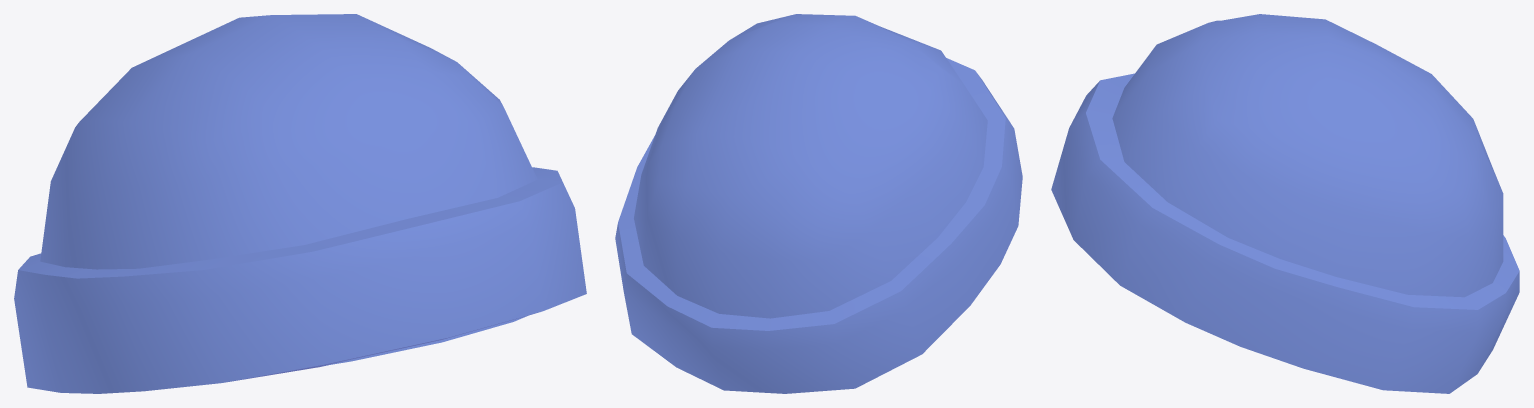
Rendered from beanie.glb.
3 views of the same model, side by side, from view 1: azimuth 30°, elevation 25°; view 2: azimuth 150°, elevation 25°; view 3: azimuth 270°, elevation 25° (orthographic). The views are drawn at different scales.
Parts seen in each view (by area): view 1: normal.002, small.004; view 2: normal.002; view 3: normal.002.
Part boxes in pixels (left/top/right/bottom): normal.002: left=14, top=14, right=586, bottom=393; small.004: left=320, top=316, right=526, bottom=366; normal.002: left=615, top=14, right=1022, bottom=393; normal.002: left=1051, top=14, right=1519, bottom=393.
Size of the model in its own units: 1.58 by 1.31 by 1.75.
